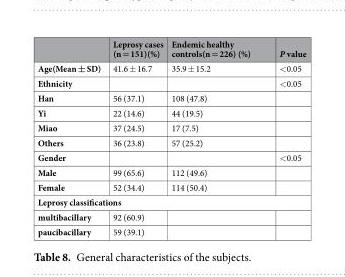table: (36, 37, 305, 237)
table column: (166, 37, 264, 237), (36, 37, 106, 237), (106, 37, 166, 237), (264, 37, 305, 237)
table column header: (36, 37, 305, 60)
table projected row header: (36, 194, 305, 209)
table row: (36, 37, 305, 60), (36, 60, 305, 75), (36, 75, 305, 90), (36, 90, 305, 105), (36, 119, 305, 134), (36, 134, 305, 149), (36, 149, 305, 164), (36, 164, 305, 179), (36, 179, 305, 194), (36, 194, 305, 209), (36, 105, 305, 119), (36, 209, 305, 223), (36, 223, 305, 237)
